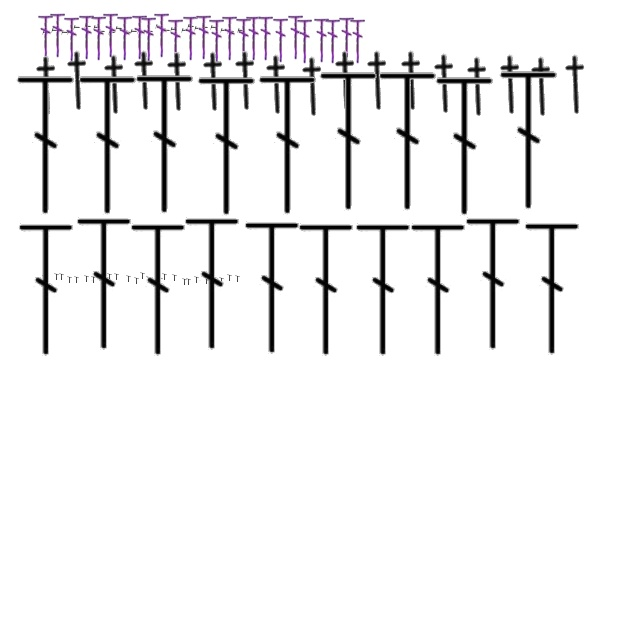double treble: (15, 71, 77, 219), (77, 71, 139, 219), (134, 70, 196, 218), (196, 72, 258, 220), (257, 71, 319, 219), (318, 67, 380, 215), (377, 67, 439, 215), (434, 72, 496, 220), (498, 66, 560, 214), (354, 220, 414, 360), (464, 214, 524, 354), (524, 218, 582, 360), (18, 220, 76, 360), (76, 214, 134, 354), (130, 220, 188, 360), (184, 214, 242, 354), (244, 218, 302, 358), (298, 220, 356, 360), (410, 220, 468, 360), (222, 14, 238, 62), (236, 16, 252, 64), (246, 14, 262, 62), (258, 14, 274, 62), (314, 16, 330, 64), (38, 14, 54, 60), (50, 12, 66, 58), (64, 16, 80, 62), (132, 14, 148, 60), (154, 12, 170, 58), (168, 18, 184, 64), (196, 14, 212, 60), (288, 14, 304, 60), (350, 18, 366, 64), (92, 14, 106, 62), (118, 14, 132, 62), (184, 14, 198, 62), (274, 16, 288, 64), (80, 14, 94, 60), (104, 12, 118, 58), (142, 16, 156, 62), (210, 18, 224, 64), (298, 18, 312, 64), (326, 18, 340, 64), (340, 16, 354, 62)
enseble_chain: (60, 50, 96, 112), (97, 54, 133, 116), (127, 50, 163, 112), (228, 50, 264, 112), (259, 54, 295, 116), (295, 56, 331, 118), (328, 50, 364, 112), (360, 50, 396, 112), (394, 50, 430, 112), (460, 56, 496, 118), (493, 54, 529, 116), (524, 56, 560, 118), (558, 54, 594, 116), (29, 56, 65, 116), (160, 52, 196, 112), (196, 52, 232, 112), (427, 54, 463, 114), (42, 30, 50, 36), (84, 24, 92, 30), (108, 30, 116, 36), (194, 26, 202, 32), (220, 28, 228, 34), (74, 276, 80, 284), (140, 272, 146, 280), (146, 276, 152, 284), (172, 274, 178, 282), (182, 278, 188, 286), (186, 278, 192, 286), (194, 276, 200, 284), (210, 276, 216, 284), (52, 28, 58, 34), (62, 30, 68, 36), (68, 30, 74, 36), (116, 26, 122, 32), (126, 30, 132, 36), (156, 24, 162, 30), (164, 28, 170, 34), (182, 28, 188, 34), (188, 24, 194, 30), (238, 28, 244, 34), (42, 276, 48, 282), (54, 274, 60, 280), (84, 276, 90, 282), (114, 274, 120, 280), (126, 276, 132, 282), (134, 278, 140, 284), (158, 278, 164, 284), (162, 274, 168, 280), (204, 278, 210, 284), (98, 30, 106, 34), (130, 30, 138, 34), (146, 30, 154, 34), (170, 28, 178, 32), (210, 26, 218, 30), (68, 276, 72, 284), (92, 276, 96, 284), (100, 276, 104, 284), (228, 274, 232, 282), (74, 26, 80, 30), (94, 26, 100, 30), (138, 30, 144, 34), (202, 26, 208, 30), (228, 30, 234, 34), (60, 274, 64, 280), (108, 274, 112, 280), (220, 278, 224, 284), (236, 276, 240, 282)
